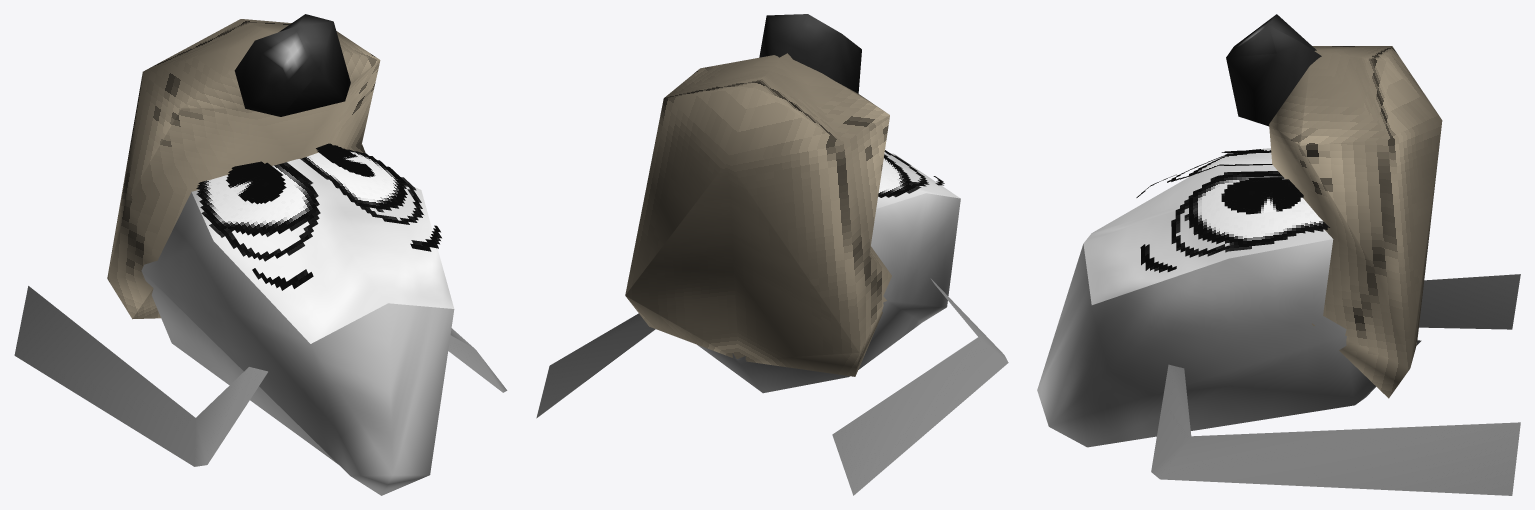
The model's file is dls_250.glb.
The picture shows the model from 3 angles, left to right: view 1: azimuth 30°, elevation 25°; view 2: azimuth 150°, elevation 25°; view 3: azimuth 270°, elevation 25°; orthographic projection. The views are drawn at different scales.
Parts seen in each view (by area): view 1: head, muzzle, head-front, ears, eyes, nose, def_left_pupil, def_right_pupil; view 2: muzzle, ears, head, nose, eyes, head-front; view 3: head, muzzle, ears, head-front, eyes, nose, def_right_pupil.
Boxes of the visible parts, left/top/right/bottom form: head: left=141, top=192, right=454, bottom=495; muzzle: left=107, top=19, right=380, bottom=319; head-front: left=191, top=159, right=454, bottom=343; ears: left=14, top=286, right=507, bottom=466; eyes: left=196, top=149, right=441, bottom=290; nose: left=234, top=14, right=350, bottom=116; def_left_pupil: left=226, top=161, right=286, bottom=204; def_right_pupil: left=316, top=143, right=375, bottom=177; muzzle: left=625, top=53, right=891, bottom=376; ears: left=536, top=278, right=1008, bottom=495; head: left=697, top=193, right=960, bottom=393; nose: left=759, top=14, right=861, bottom=93; eyes: left=878, top=150, right=944, bottom=197; head-front: left=876, top=153, right=960, bottom=208; head: left=1037, top=239, right=1421, bottom=447; muzzle: left=1269, top=46, right=1442, bottom=398; ears: left=1151, top=274, right=1520, bottom=495; head-front: left=1083, top=165, right=1332, bottom=304; eyes: left=1136, top=152, right=1329, bottom=272; nose: left=1226, top=14, right=1321, bottom=126; def_right_pupil: left=1221, top=177, right=1303, bottom=214.
Bounding box in the file's own units: 1.14 × 1.3 × 1.4.
Materials: 7 (7 with a texture image).
